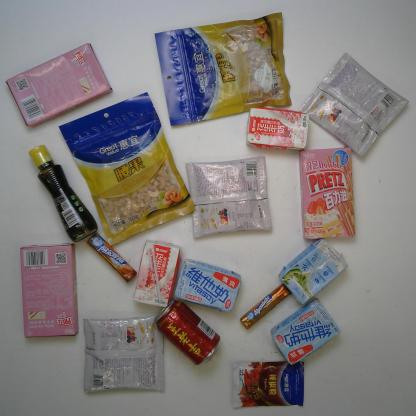Candy: (85, 230, 137, 283), (240, 282, 291, 330)
Dessert: (4, 41, 113, 129), (19, 238, 83, 340), (298, 143, 357, 242)
Dried Fruit: (56, 90, 196, 248), (153, 9, 292, 127)
Drink: (156, 296, 222, 368)
Instant Drink: (297, 47, 409, 160), (183, 148, 274, 241), (78, 310, 171, 398)
Milk: (270, 289, 341, 366), (279, 233, 350, 305), (171, 257, 242, 315), (130, 235, 184, 311), (242, 101, 312, 153)
Seasoner: (26, 139, 96, 244), (228, 354, 308, 411)
